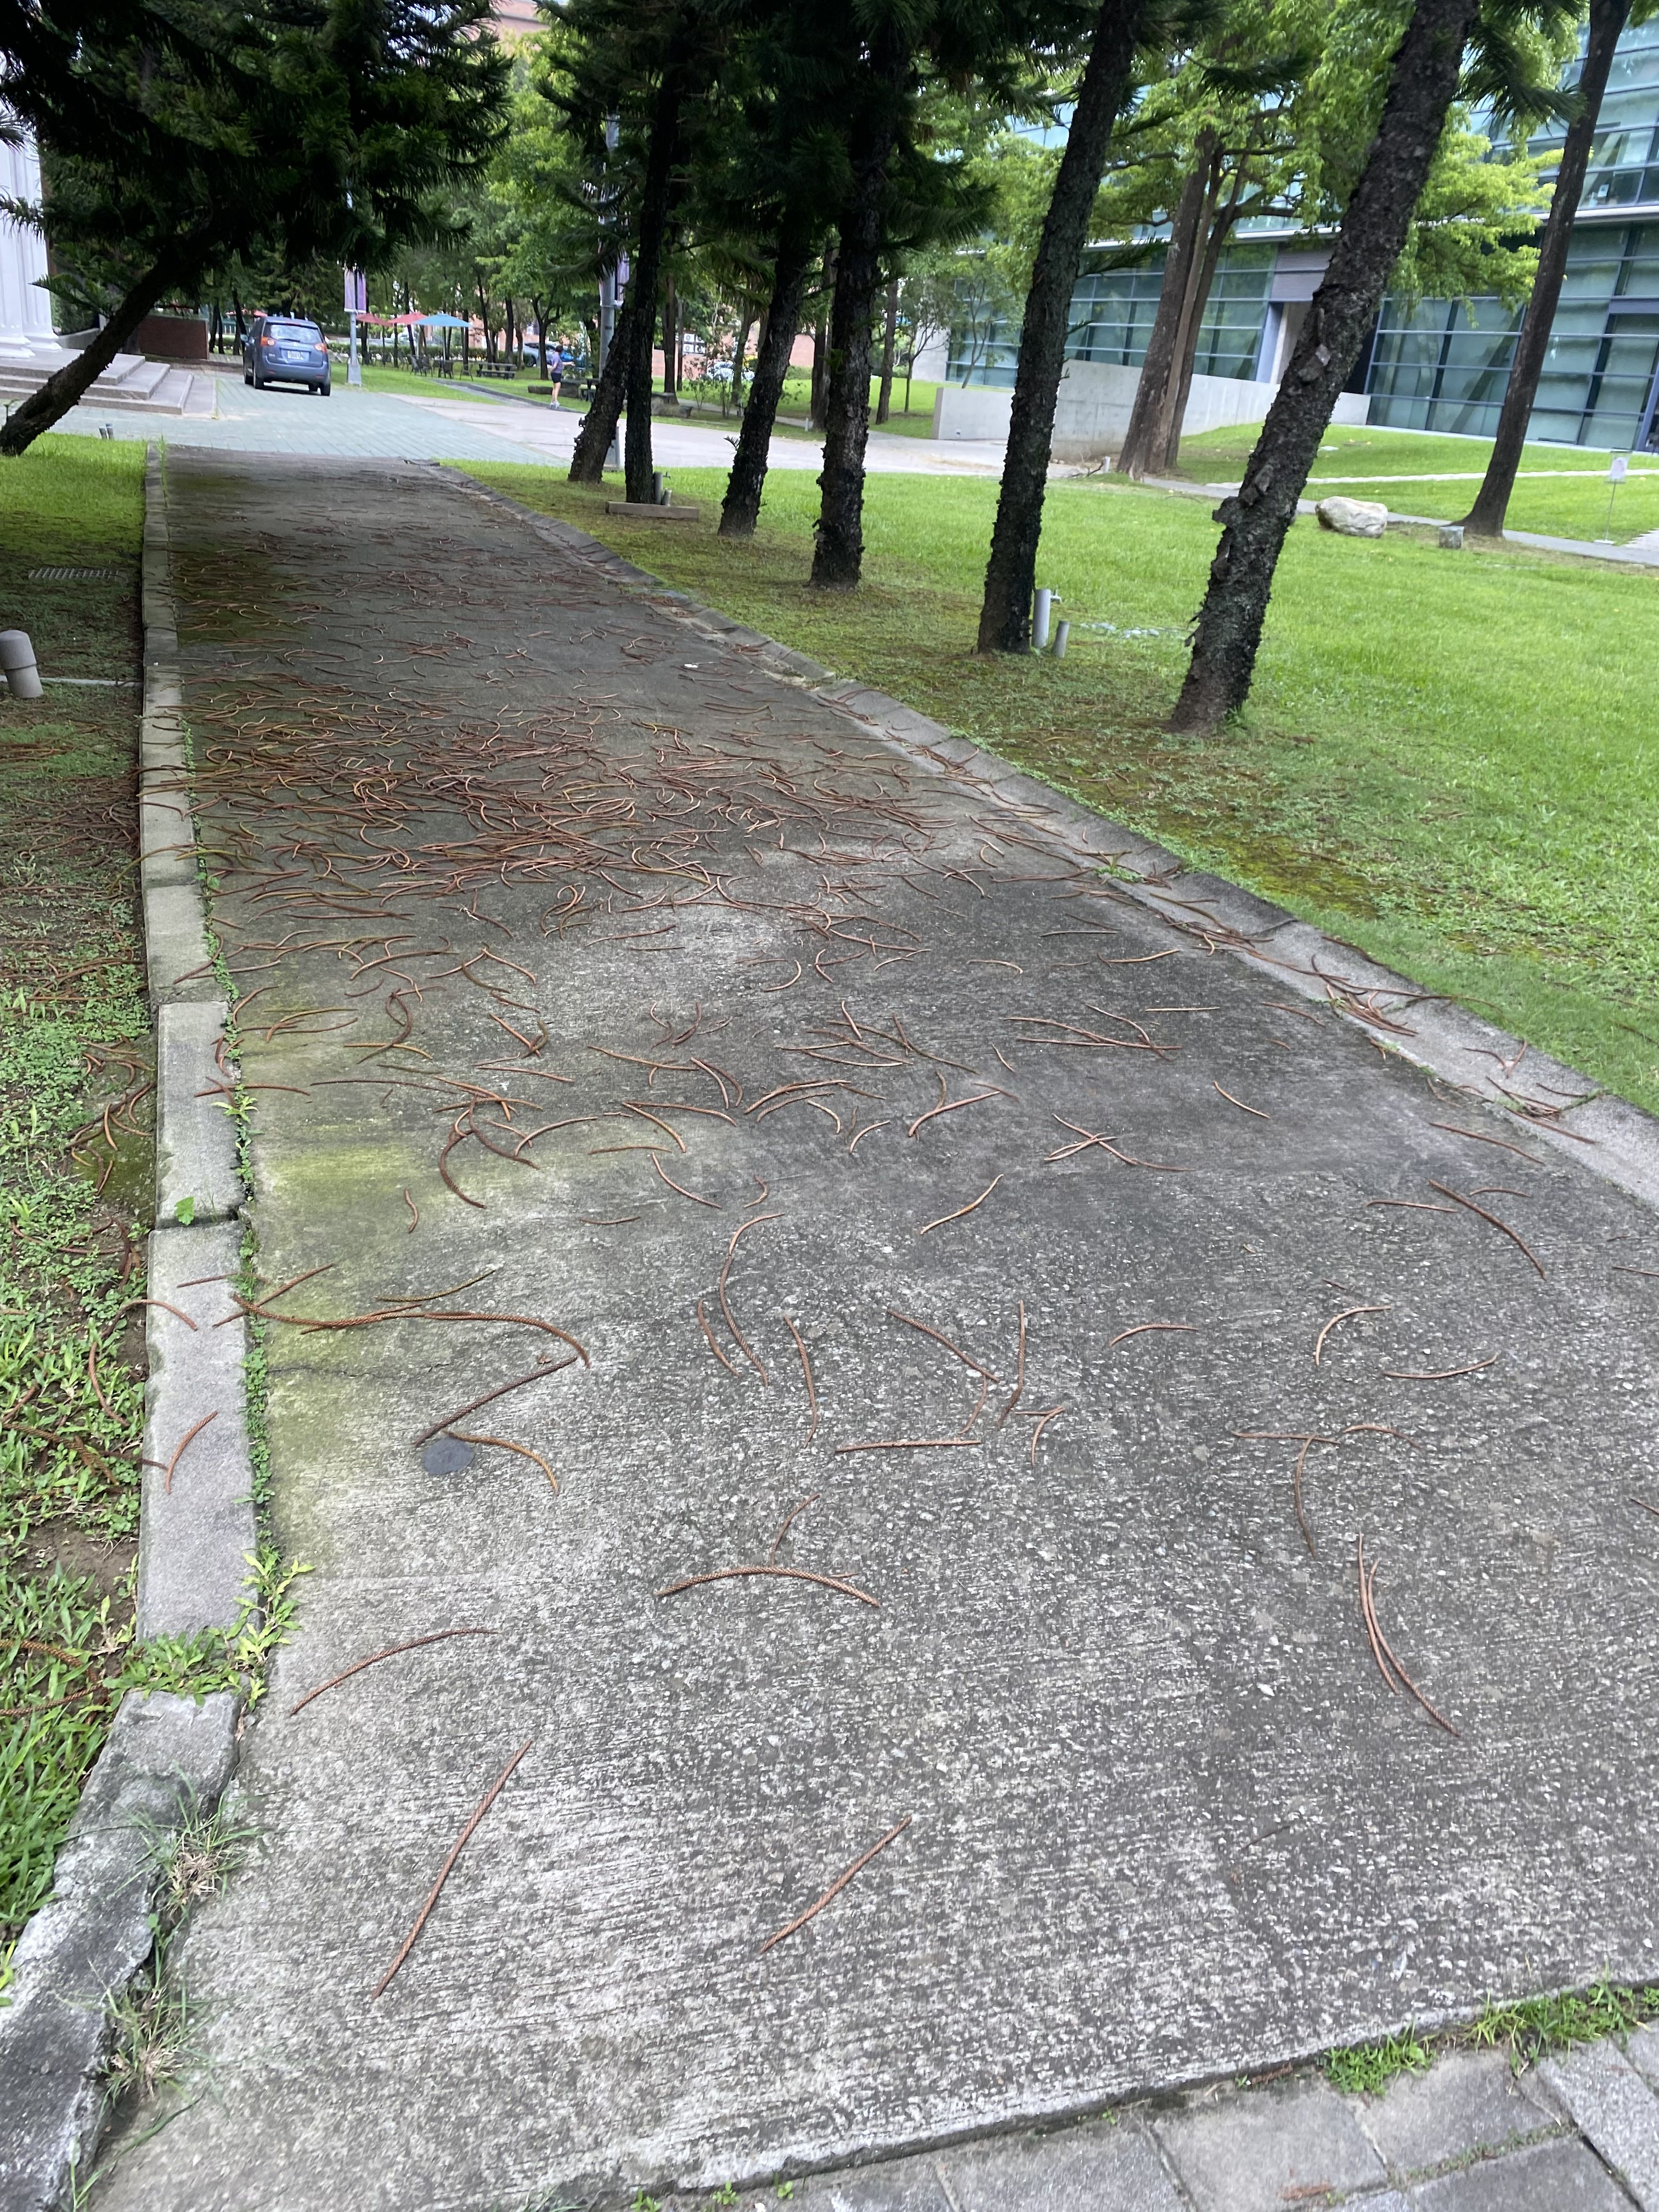sidewalk: (122, 421, 1657, 2212)
